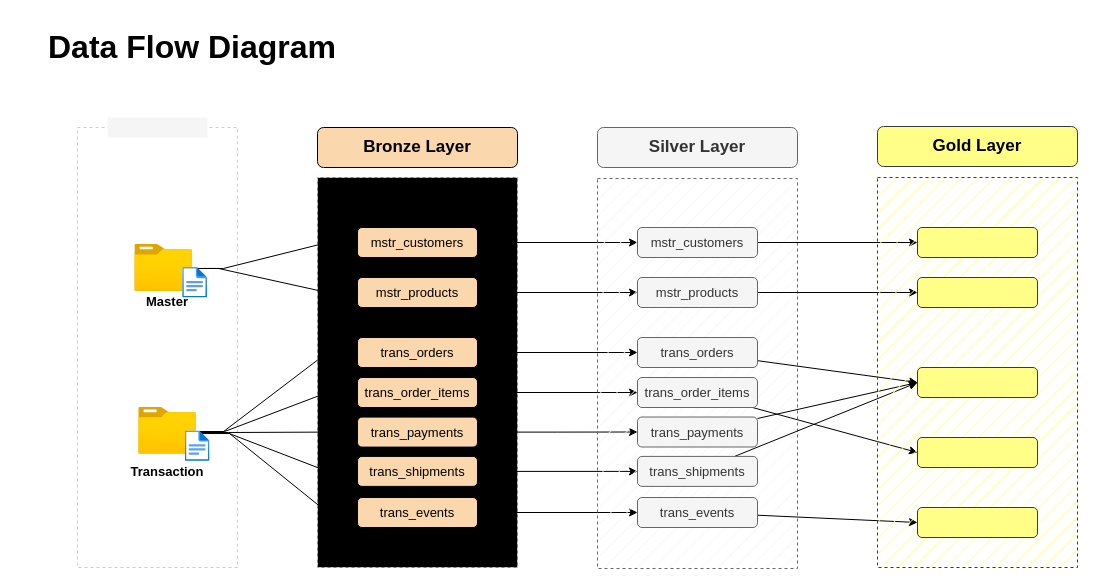
The diagram is 1095 pixels wide and 586 high, and some of its shapes have lost their labels. The shapes that lost their labels are listed below. From the top down, each one's box as (x1, y1, x2, y2) in pixels, then its label:
(107, 117, 207, 137): Sources
(916, 226, 1038, 258): dim_customerrs
(916, 276, 1038, 308): dim_products
(916, 366, 1038, 398): fact_sales
(916, 436, 1038, 468): fact_order_items
(916, 506, 1038, 538): fact_events
